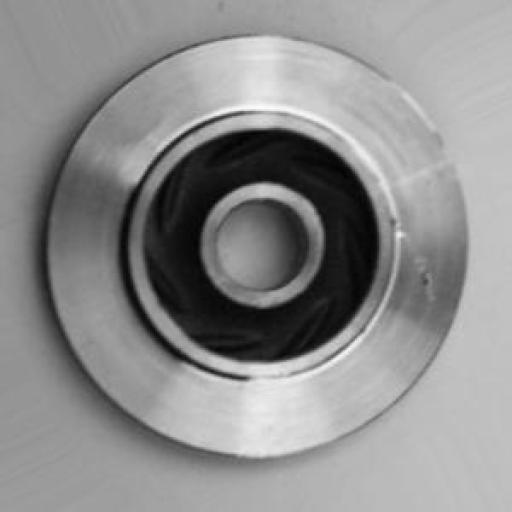defect: (390, 173, 452, 341)
